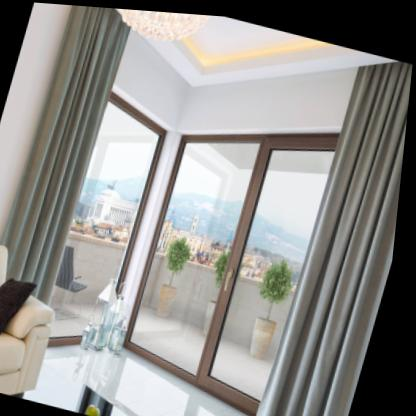Window: (132, 127, 343, 414), (38, 88, 168, 349)
